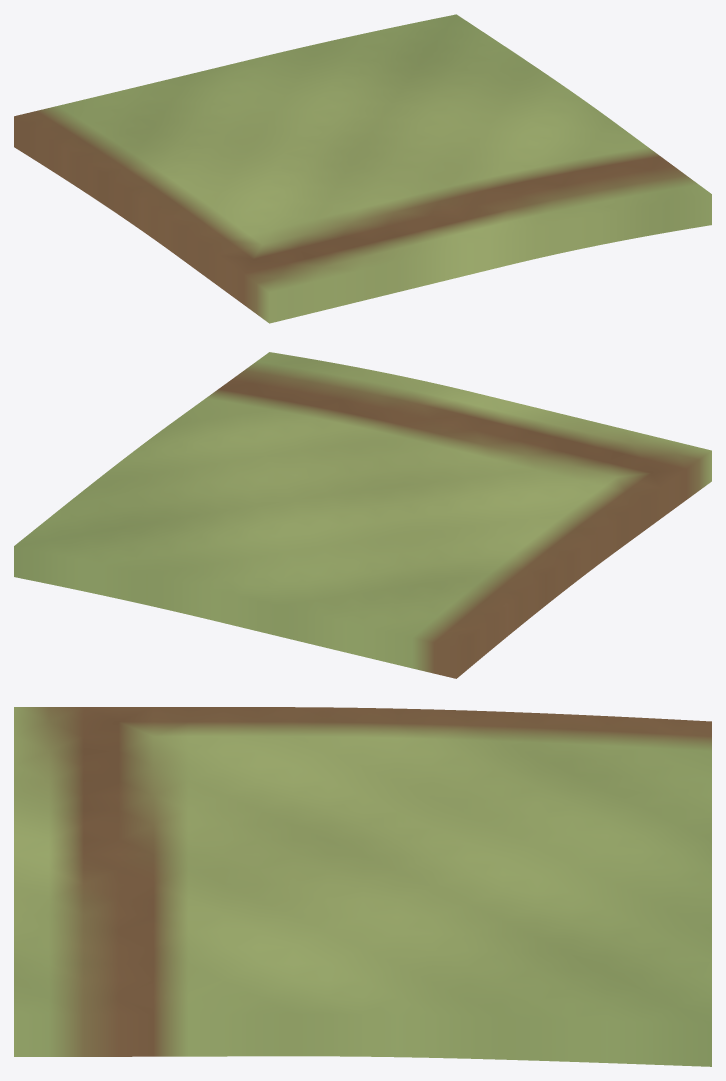
3 renders of one model, top to bottom at view 1: azimuth 30°, elevation 25°; view 2: azimuth 150°, elevation 25°; view 3: azimuth 270°, elevation 25°, orthographic. The views are drawn at different scales.
Visible parts, largest first — view 1: terrain; view 2: terrain; view 3: terrain.
Part boxes in pixels (x1,y1,x2,y2): terrain: [14, 14, 711, 323]; terrain: [14, 352, 711, 678]; terrain: [14, 707, 711, 1066].
Bounding box in the file's own units: 30 × 3.07 × 30.
